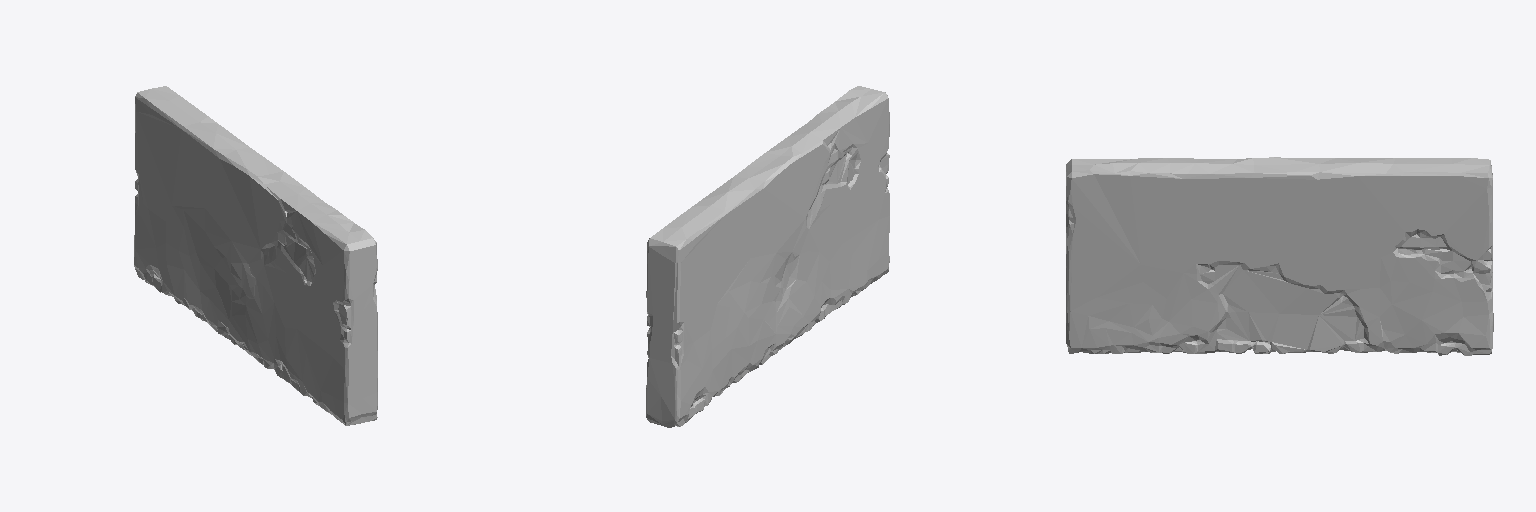
File: damagedWallVertical.obj
3 renders of one model, left to right at view 1: azimuth 30°, elevation 25°; view 2: azimuth 150°, elevation 25°; view 3: azimuth 270°, elevation 25°, orthographic.
Parts seen in each view (by area): view 1: Object_2_Object_0; view 2: Object_2_Object_0; view 3: Object_2_Object_0.
Boxes of the visible parts, x1,y1,x2,y2 form: Object_2_Object_0: [134, 86, 377, 425]; Object_2_Object_0: [646, 86, 889, 427]; Object_2_Object_0: [1066, 157, 1493, 355].
Bounding box in the file's own units: 0.9918 × 4.8 × 9.96.